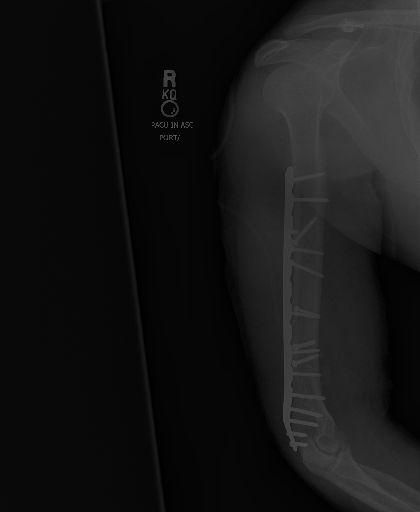implant: (277, 162, 331, 457)
